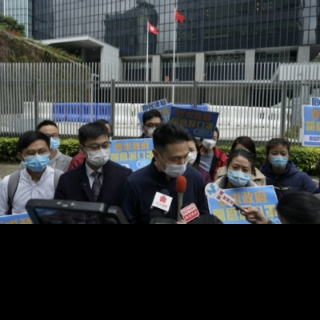with_mask: (161, 150, 188, 180), (85, 140, 111, 166), (226, 162, 252, 188), (23, 147, 50, 172), (40, 132, 59, 155), (269, 148, 288, 168), (144, 120, 160, 137), (202, 135, 216, 151), (187, 146, 197, 165)
